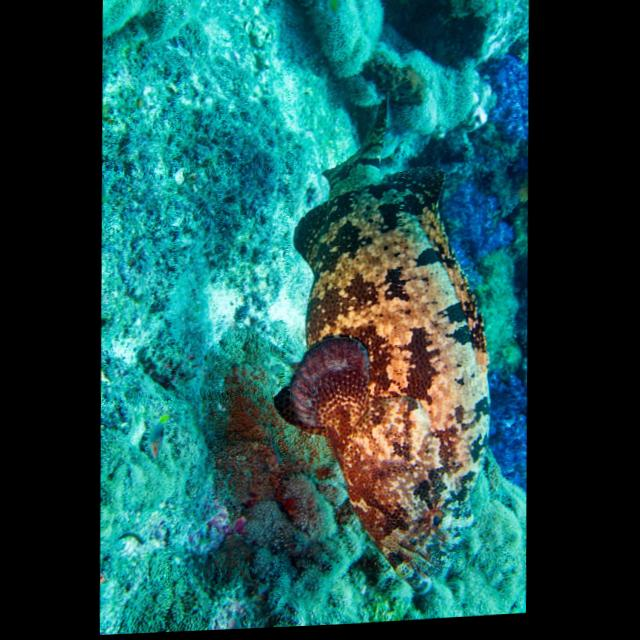Groupers: (263, 118, 498, 599)
